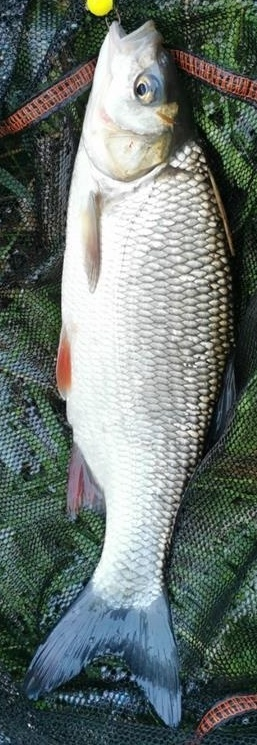Leuciscus idus: (20, 20, 237, 725)
